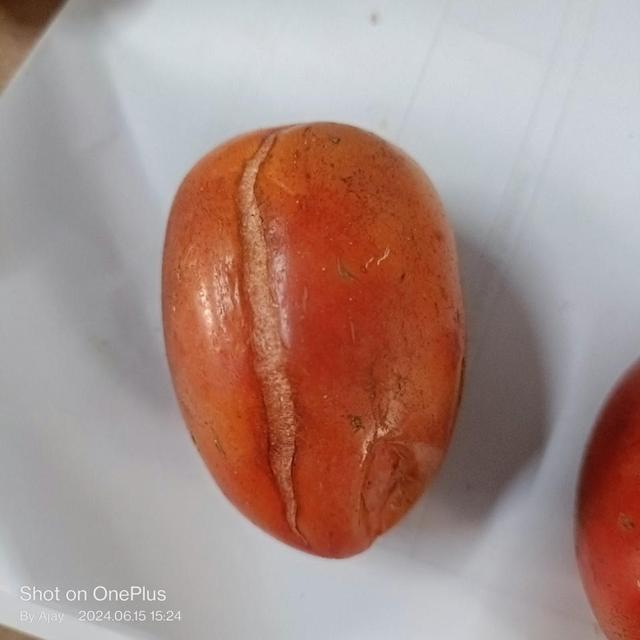Cracking Fruit: (72, 9, 232, 238)
